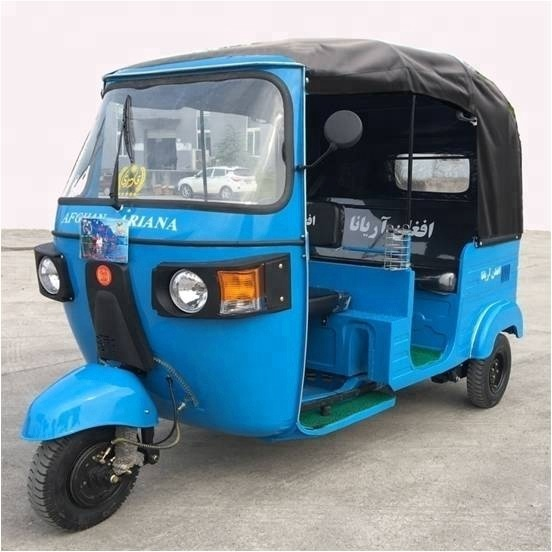threewheel: (18, 38, 521, 534)
